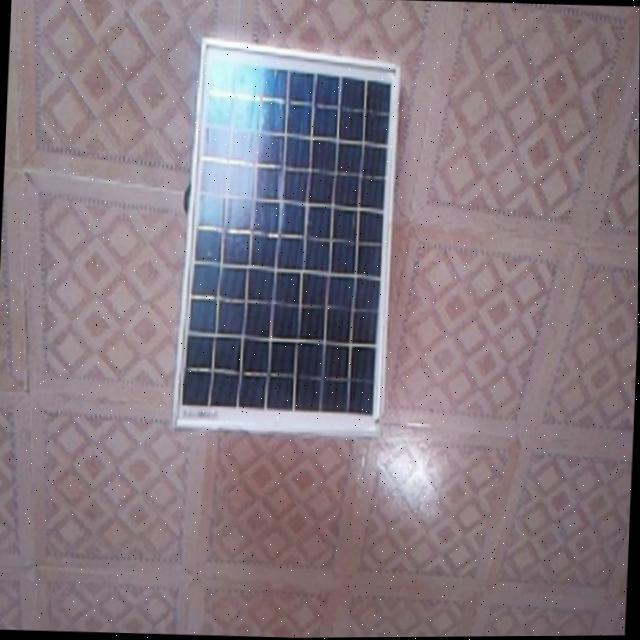Normal Solar Panel: (172, 37, 400, 439)
